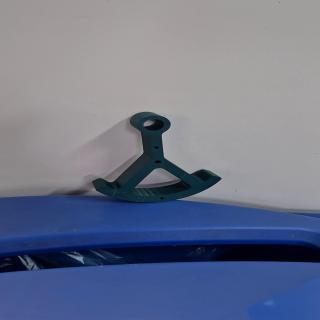haptic: (91, 111, 222, 203)
